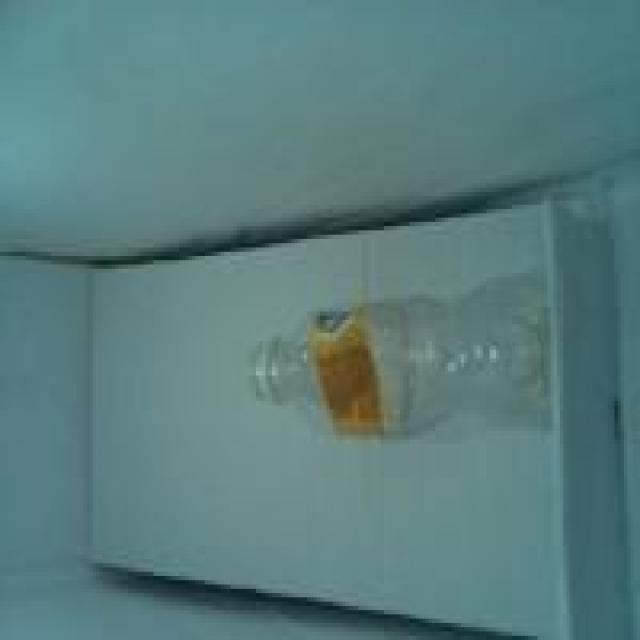bottle: (234, 278, 586, 455)
